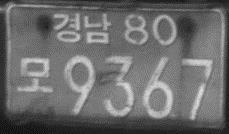0: (150, 12, 177, 47)
3: (101, 55, 135, 118)
6: (142, 55, 175, 120)
7: (179, 56, 215, 124)
8: (123, 13, 150, 46)
9: (61, 52, 96, 117)
경남_O: (50, 11, 113, 46)
모: (13, 54, 56, 96)
